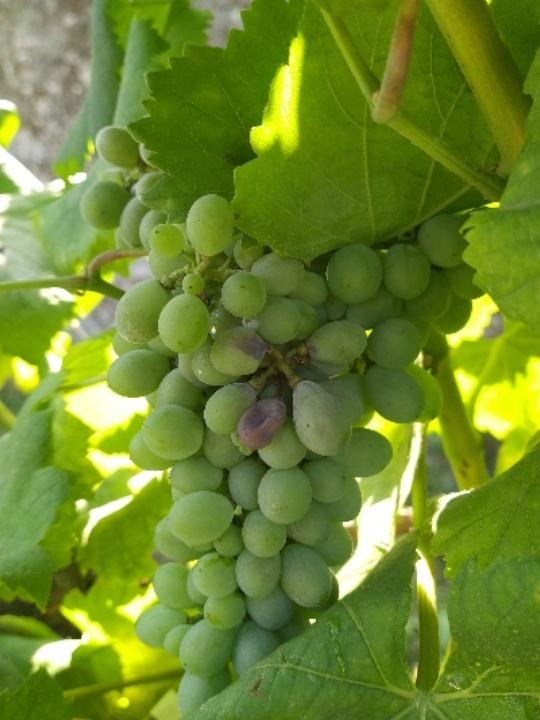grape: (81, 117, 483, 720)
